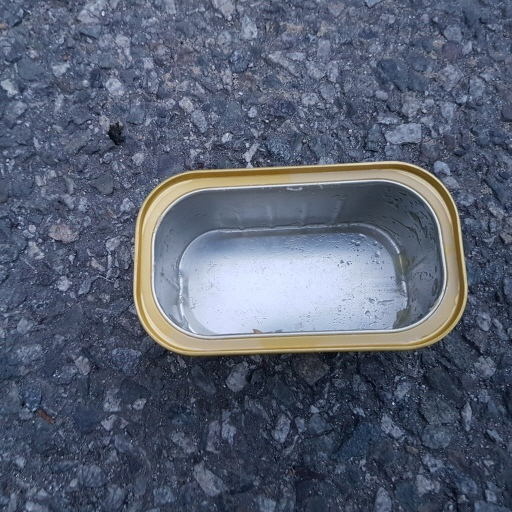Metal_2: (129, 161, 468, 363)
